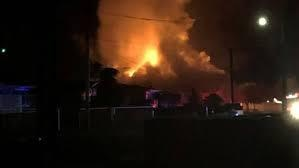fire: (123, 42, 162, 78)
